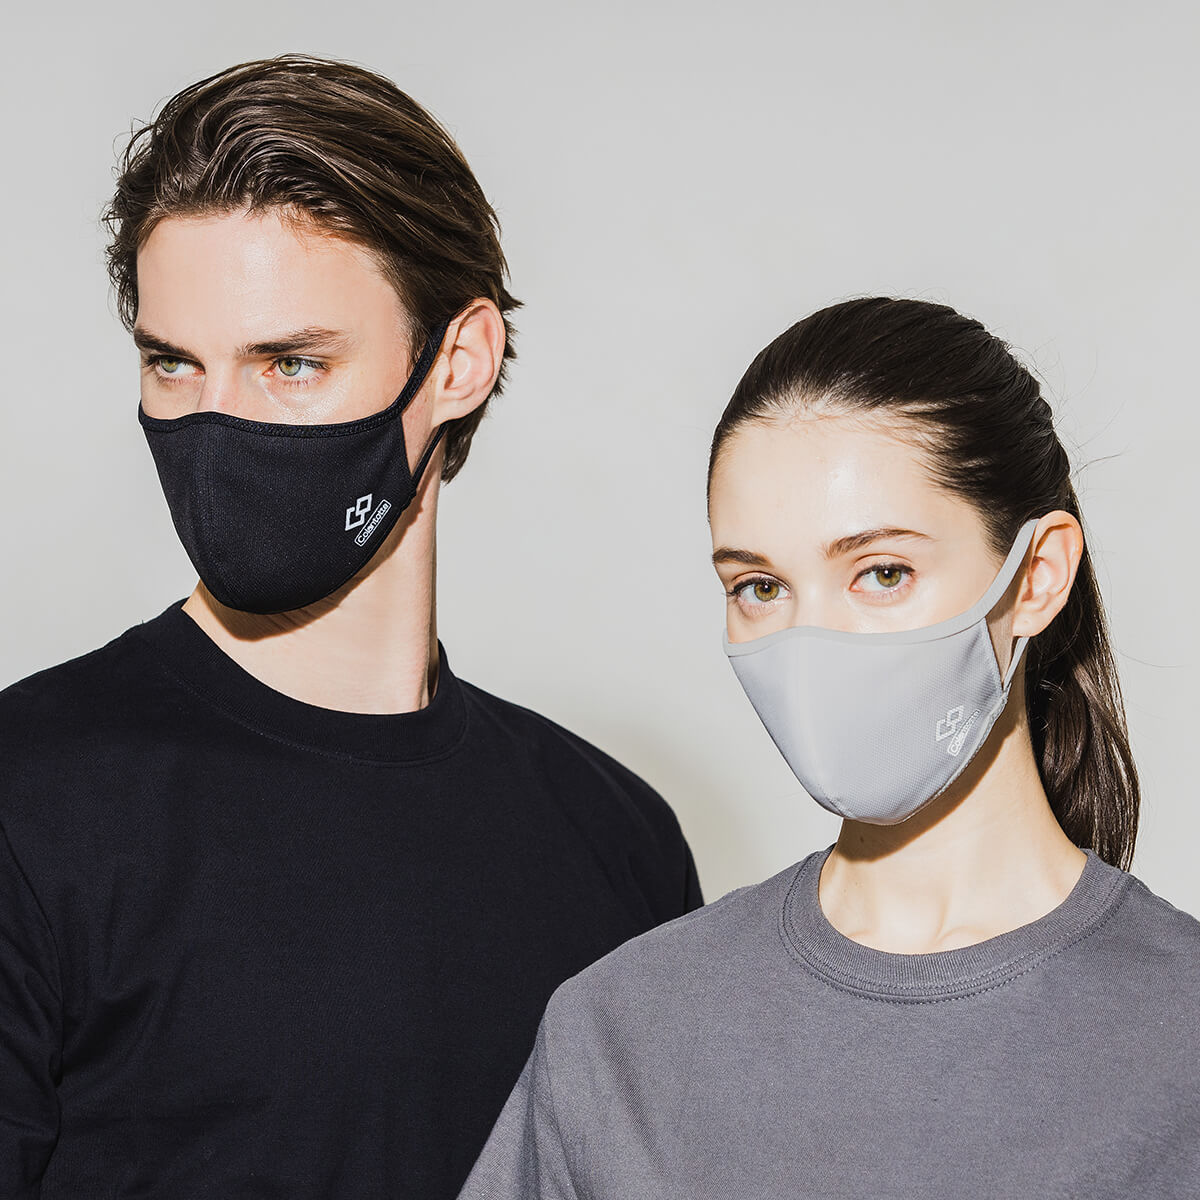female: (460, 291, 1200, 1200)
male: (1, 47, 711, 1200)
